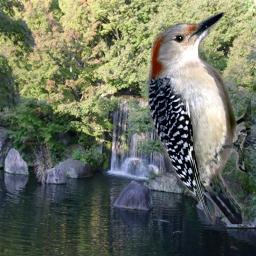Woodpecker: (148, 12, 251, 224)
